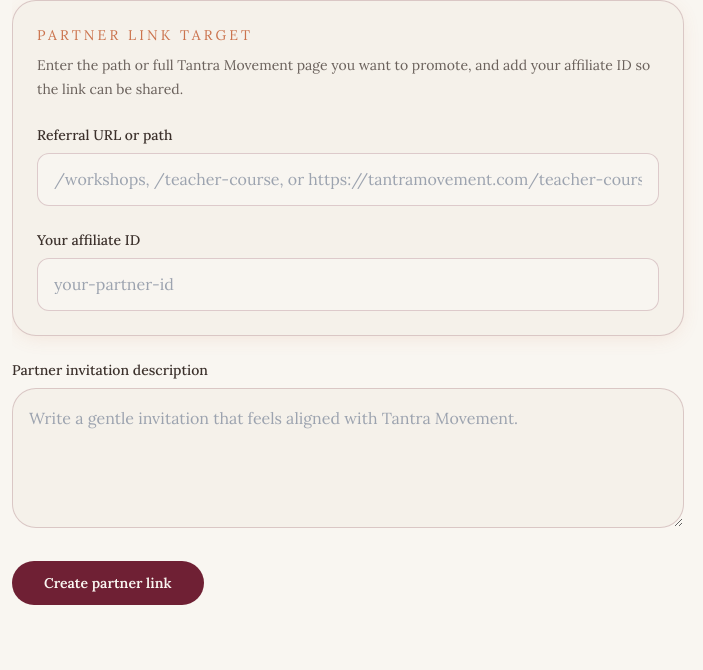
AffiliateForm › shows validation error for invalid URL
Type "invalid-url" into the field labelled "Referral URL or path". click: (348,180)
box: [37,153,659,206]
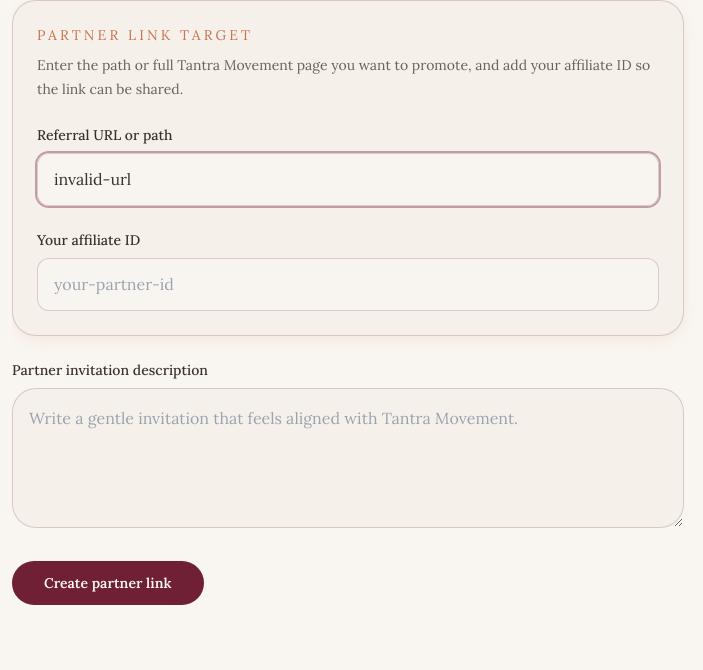
Type "partner123" into the field labelled "Your affiliate ID". click: (348,285)
box: [37,258,659,311]
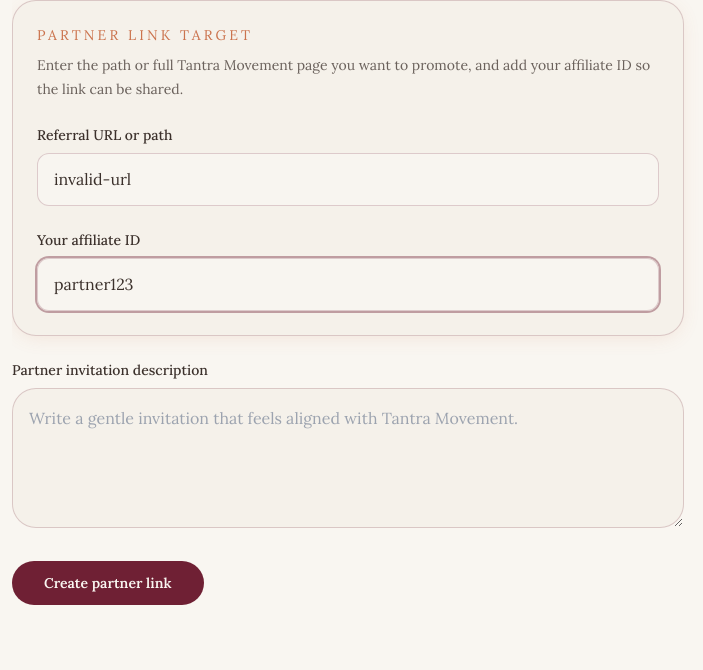
Type "Hello partner" into the text box labelled "Partner invitation description". click: (348,458)
box: [12,388,684,528]
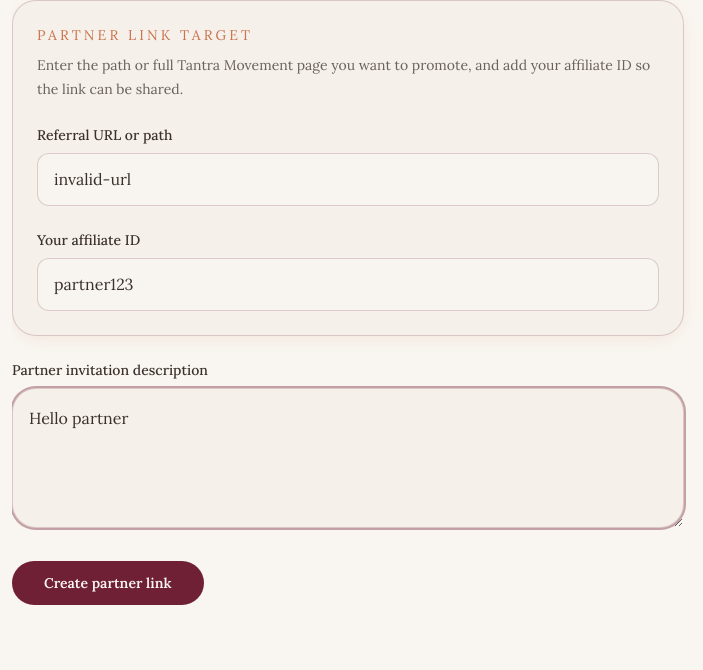
Click the button "Create partner link". click: (108,583)
box: [12,561,204,605]
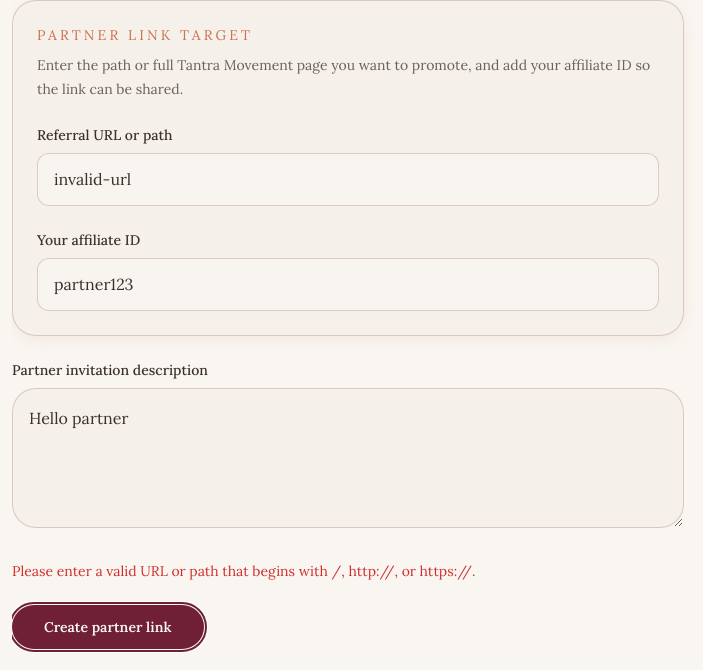
Check: the text "Please enter a valid URL or path" is shown, box [12,562,475,580]
